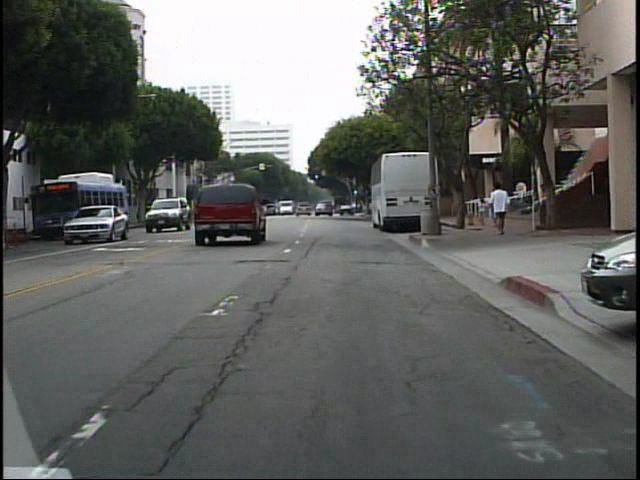person: (491, 180, 516, 238), (476, 195, 489, 228)
